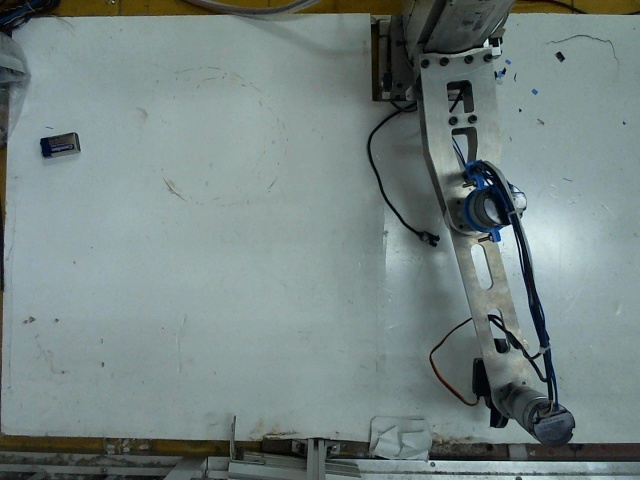battery: (37, 127, 83, 157)
